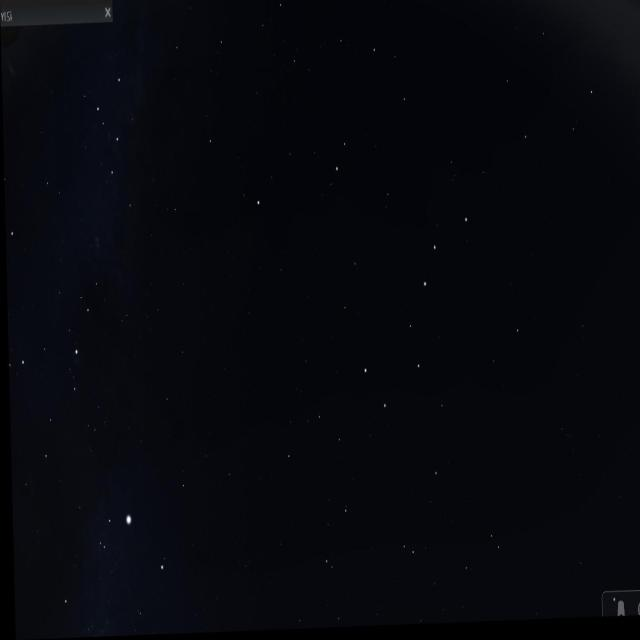cassiopeia: (87, 53, 158, 243)
ursa_major: (350, 202, 477, 430)
